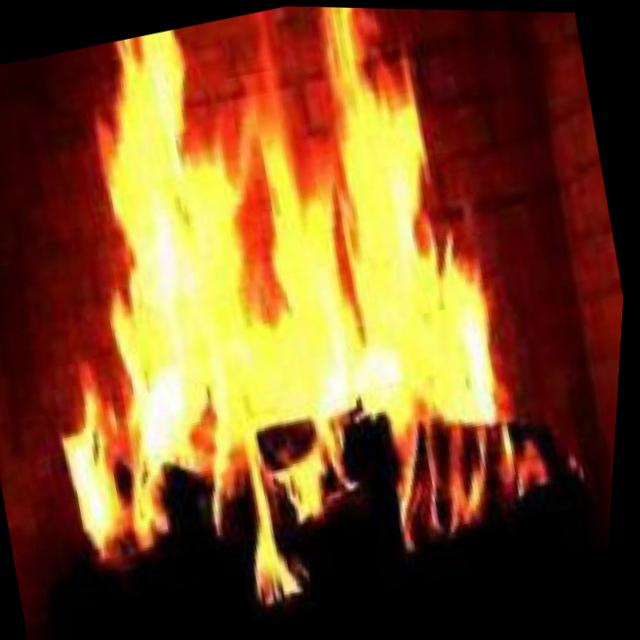Fire: (3, 8, 516, 534)
